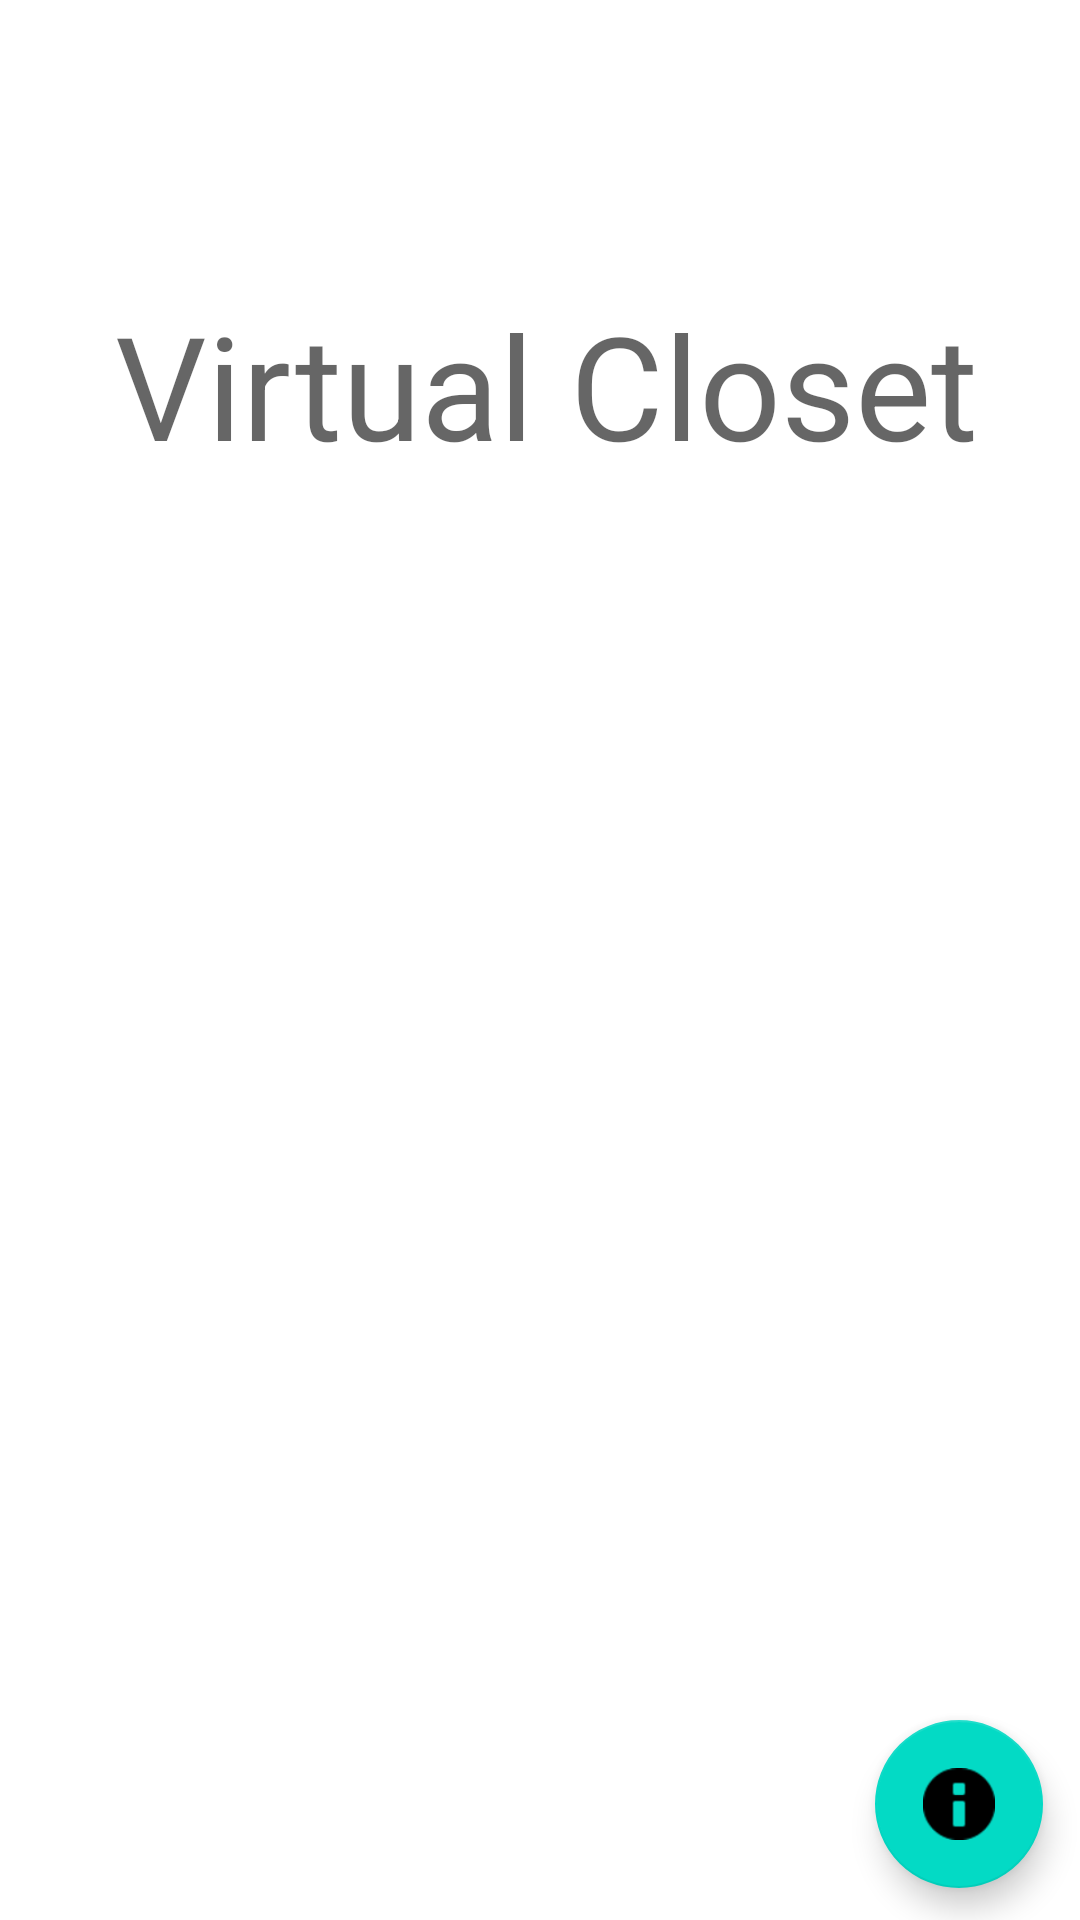

Named icons in this screenshot (1080 × 1920) and their centers, [x,y]:
info: [959,1804]
